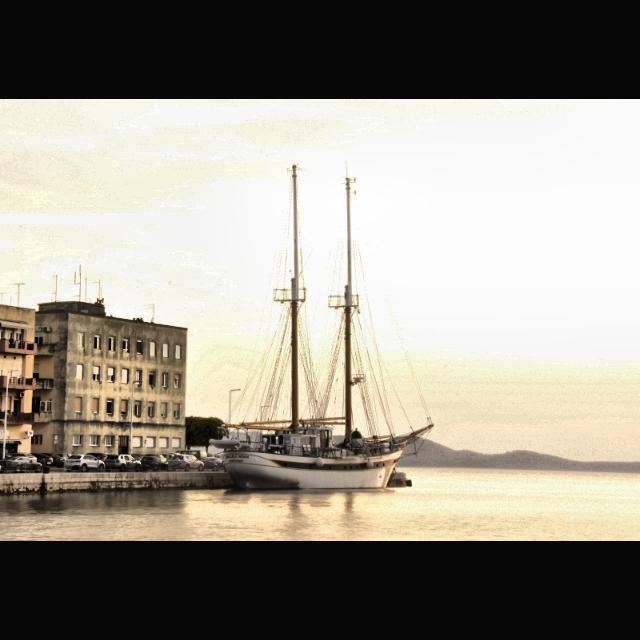sailing_vessel: (220, 164, 434, 491)
